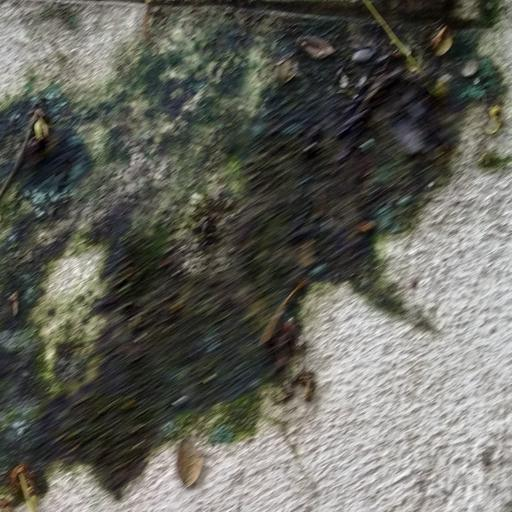algae: (0, 0, 478, 492)
